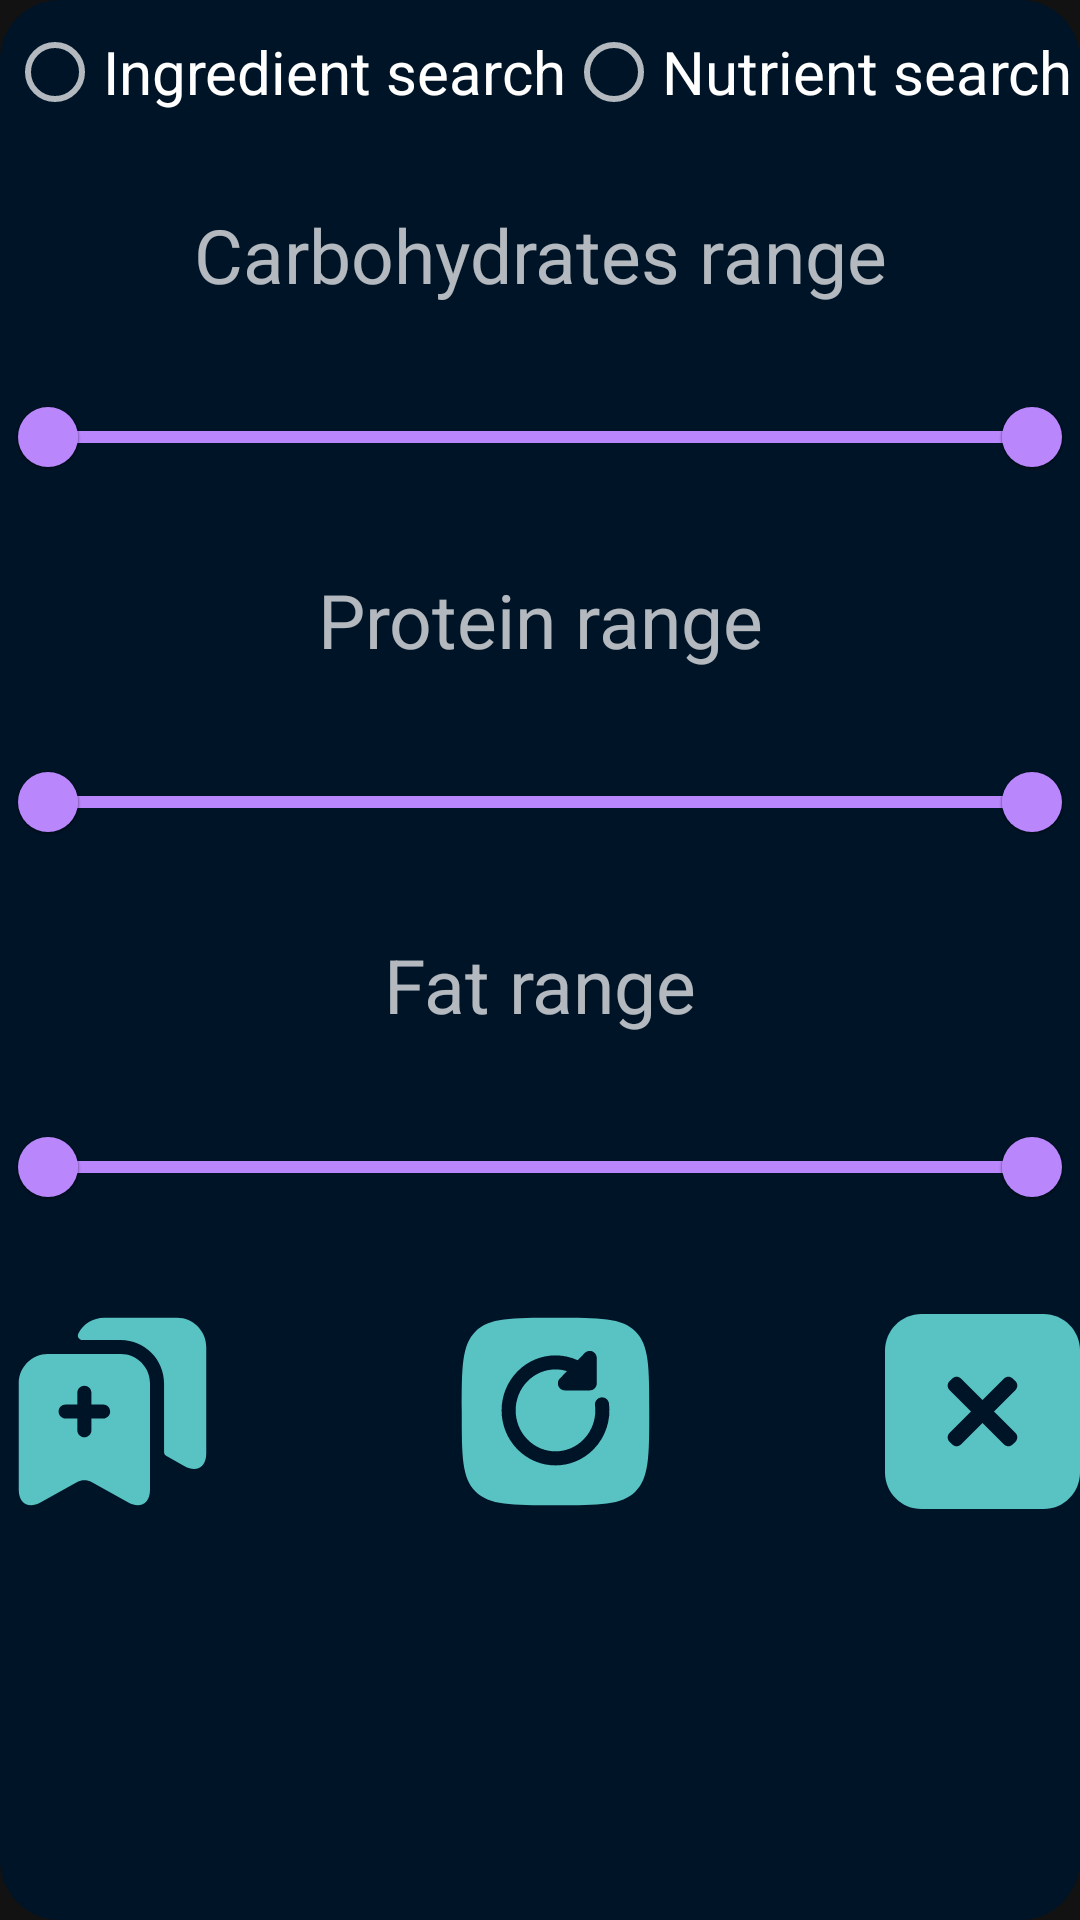

Named icons in this screenshot (1080px×1920px) and their bounding boxes, {"x1": x1, "y1": y1, "x2": x2, "y2": y2}:
close: {"x1": 885, "y1": 1314, "x2": 1080, "y2": 1509}
popup reset filters: {"x1": 461, "y1": 1317, "x2": 650, "y2": 1506}
